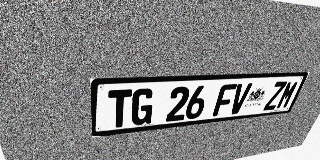2: (166, 86, 191, 122)
6: (184, 85, 209, 120)
F: (212, 84, 237, 116)
G: (130, 88, 155, 126)
M: (275, 81, 300, 109)
T: (108, 89, 132, 129)
V: (228, 83, 253, 115)
Z: (263, 81, 288, 111)
